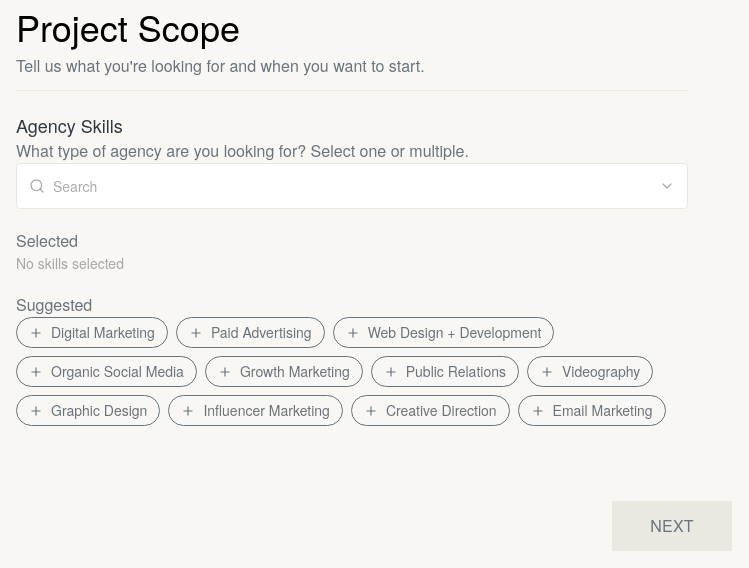
clicking a suggested chip moves it to Selected and removes it from Suggested
The image size is (749, 568).
# click the suggested chip
Step 1. Click the button with aria-label "Add Digital Marketing" → [92, 332], box [16, 317, 168, 348]
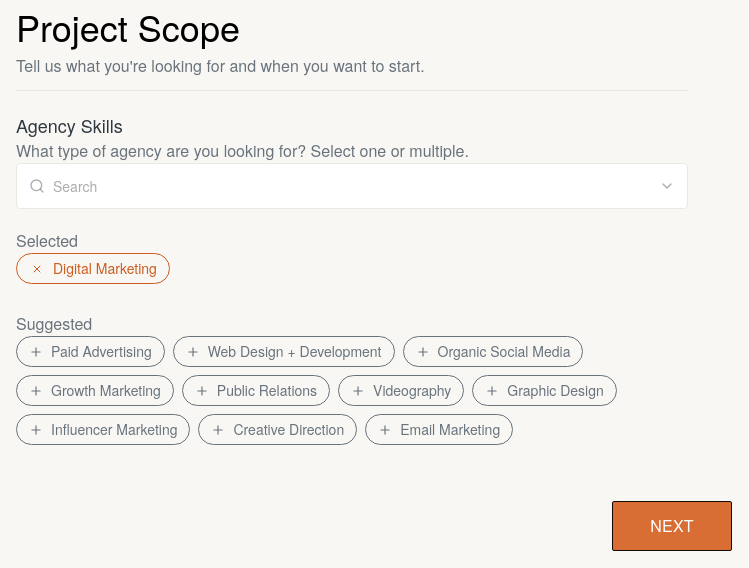
Result: the button named "Remove Digital Marketing" is shown at [29, 260, 45, 276]
